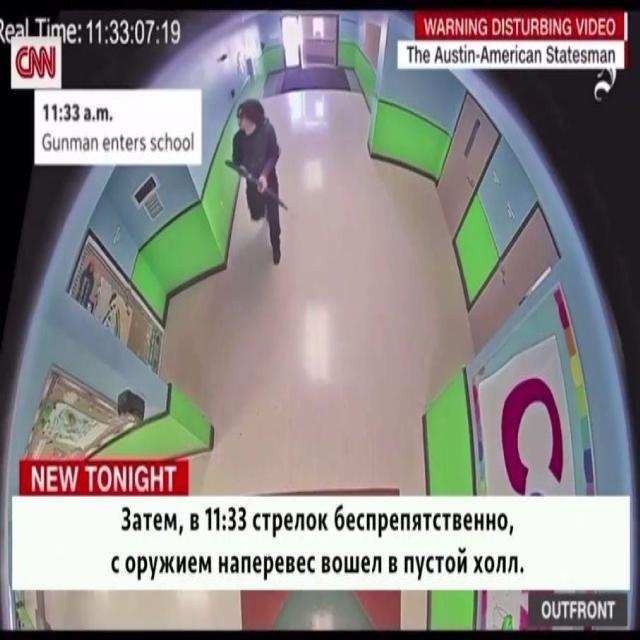pistol: (228, 154, 290, 217)
